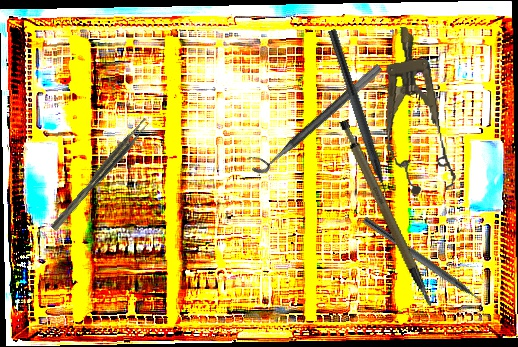Chopper: (315, 28, 398, 215), (356, 216, 494, 317)
Fixation Ring: (244, 53, 384, 179)
Scalpel Handle: (336, 111, 434, 317)
Speculum: (370, 22, 461, 198)
Tissue Forceps: (47, 116, 152, 232)
